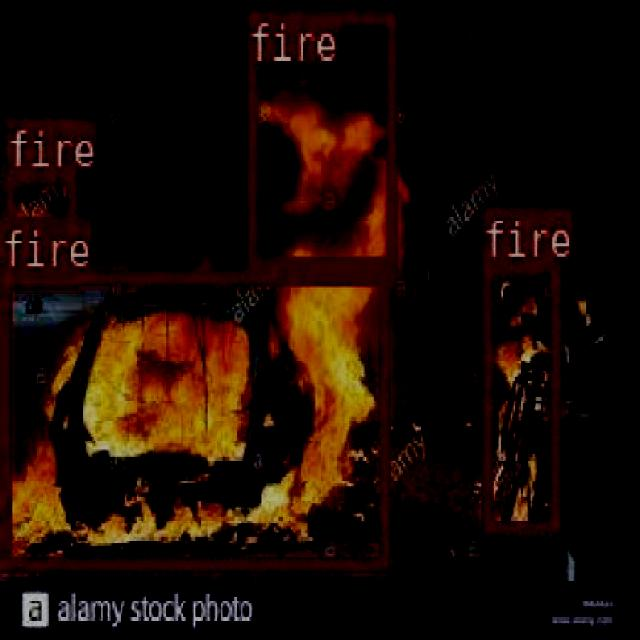fire: (0, 268, 388, 568), (246, 8, 394, 270), (479, 257, 558, 534), (4, 167, 74, 284)
